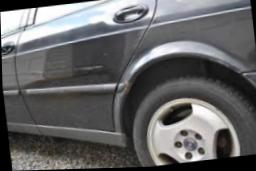Fender: (115, 77, 136, 100)
